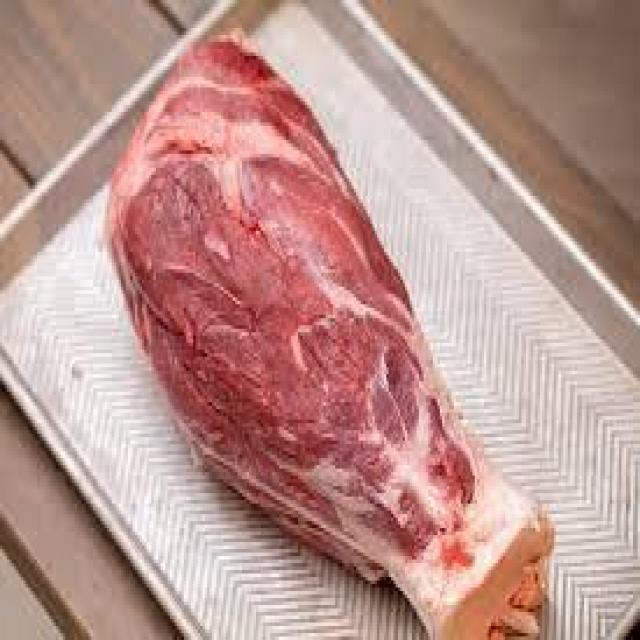Beef: (109, 33, 536, 638)
